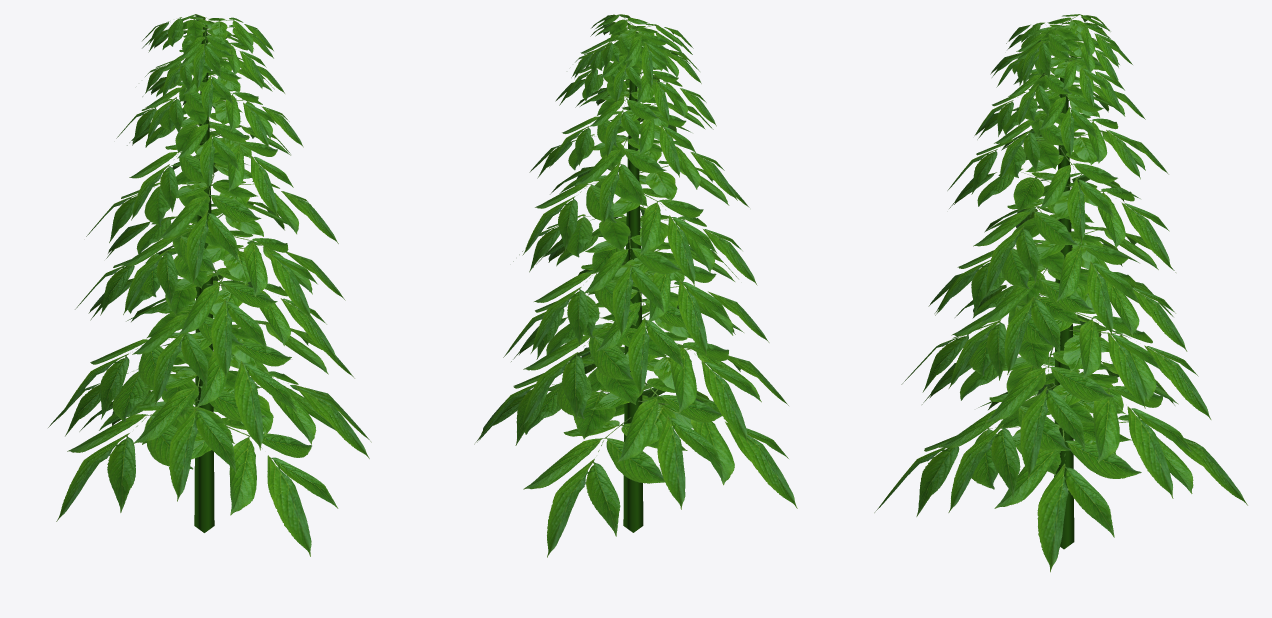
The model's file is plant22.FBX.
3 renders of one model, left to right at view 1: azimuth 30°, elevation 25°; view 2: azimuth 150°, elevation 25°; view 3: azimuth 270°, elevation 25°, orthographic. The views are drawn at different scales.
Visible parts, largest first — view 1: plant22; view 2: plant22; view 3: plant22.
Part boxes in pixels (x1,y1,x2,y2): plant22: [48, 14, 371, 556]; plant22: [474, 14, 797, 557]; plant22: [874, 14, 1247, 572].
Bounding box in the file's own units: 1.41 × 2.03 × 1.4.
